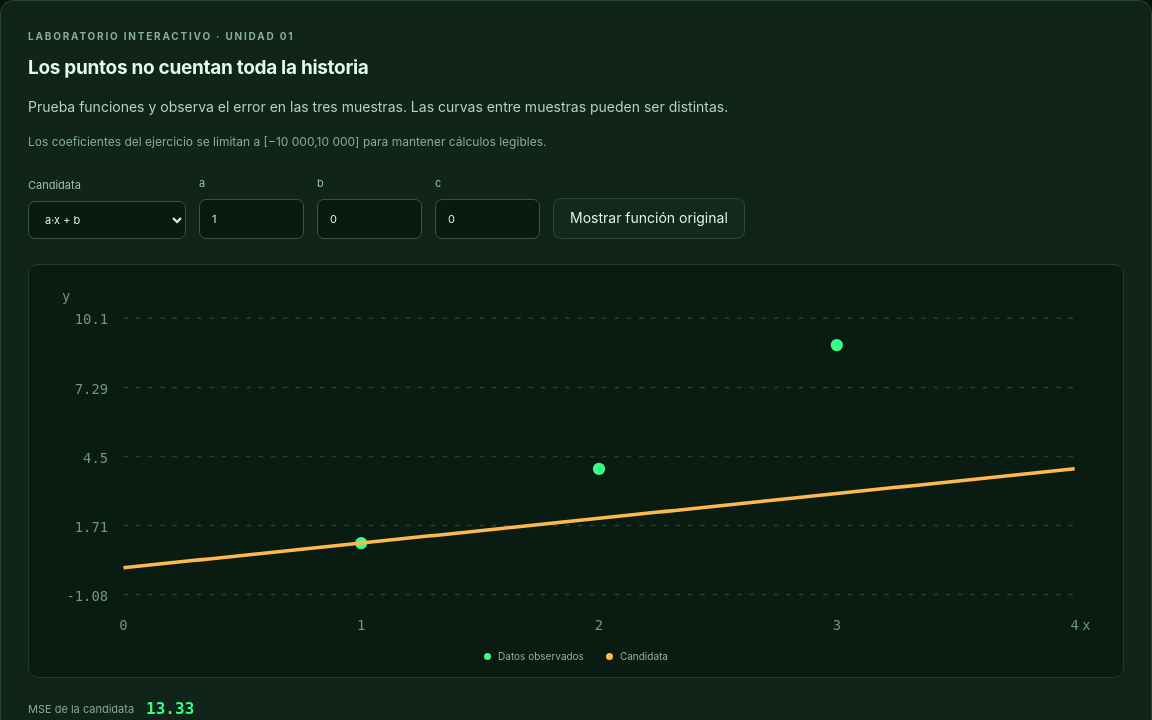
limita entradas extremas de las gráficas sin desmontar el curso
Replace the text in the number field labelled "a" with "1e308" at (252, 219), box [199,199,304,239]
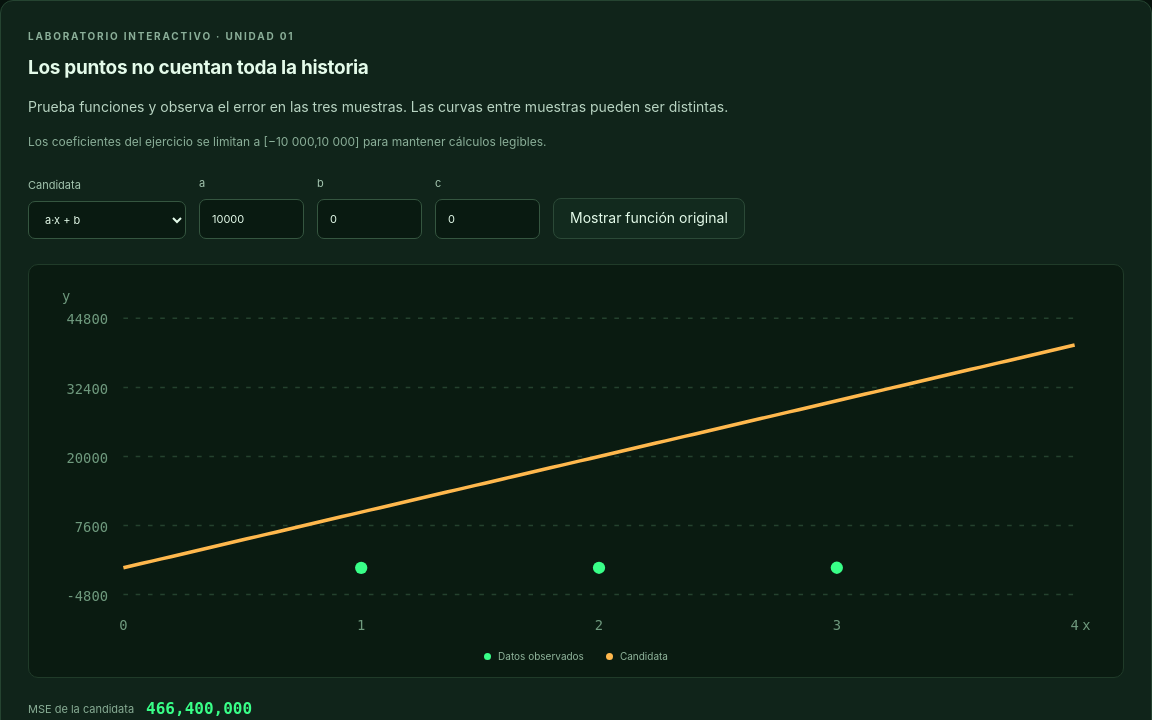
Check: the heading "Los puntos no cuentan toda la historia" is shown, box [28,56,368,79]
Check: the number field labelled "a" holds "10000", box [199,199,304,239]
